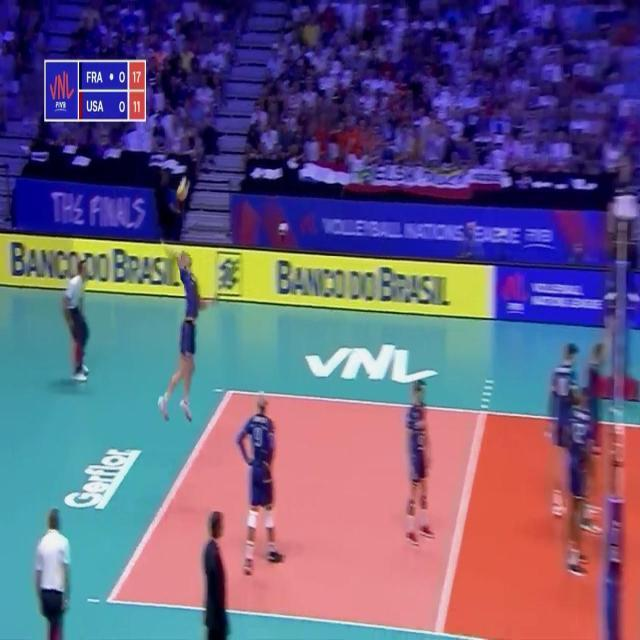volleyball: (177, 176, 190, 202)
